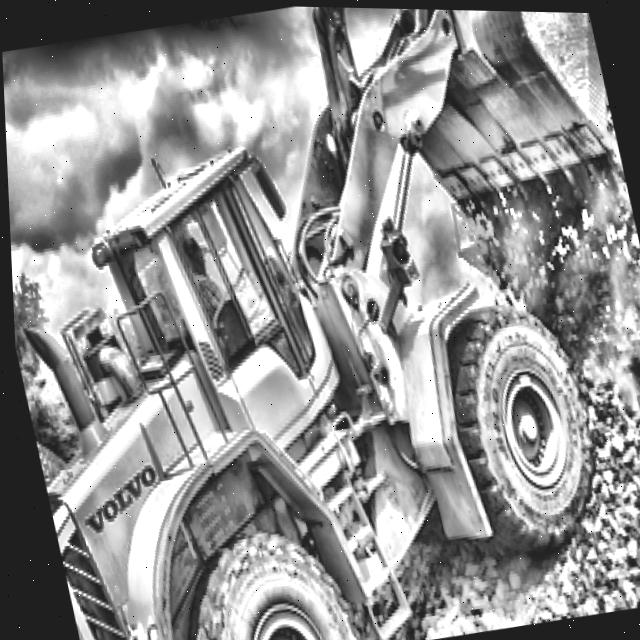buldozerpayloadergrader: (2, 71, 629, 640)
